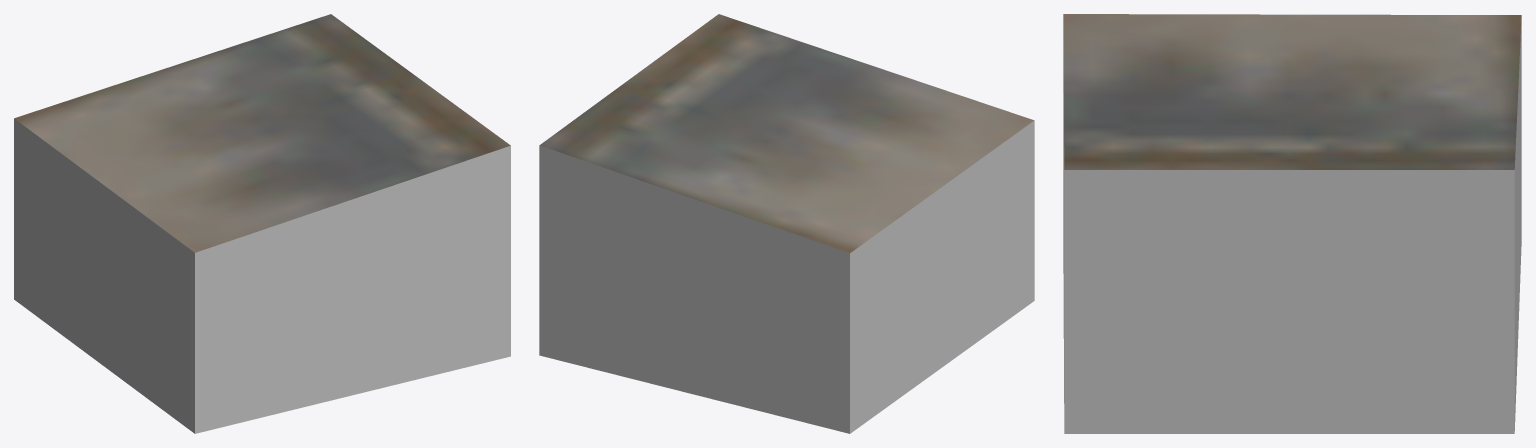
File: DEBW_0010007TxgA.gltf
3 views of the same model, side by side, from view 1: azimuth 30°, elevation 25°; view 2: azimuth 150°, elevation 25°; view 3: azimuth 270°, elevation 25° (orthographic). The views are drawn at different scales.
Parts seen in each view (by area): view 1: Z_UP; view 2: Z_UP; view 3: Z_UP.
Boxes of the visible parts, x1=… form: Z_UP: x1=14, y1=14, x2=510, y2=433; Z_UP: x1=539, y1=14, x2=1034, y2=433; Z_UP: x1=1063, y1=14, x2=1521, y2=433.
Size of the model in its own units: 4.62 by 2.94 by 4.63.
2 materials, 1 textured.
